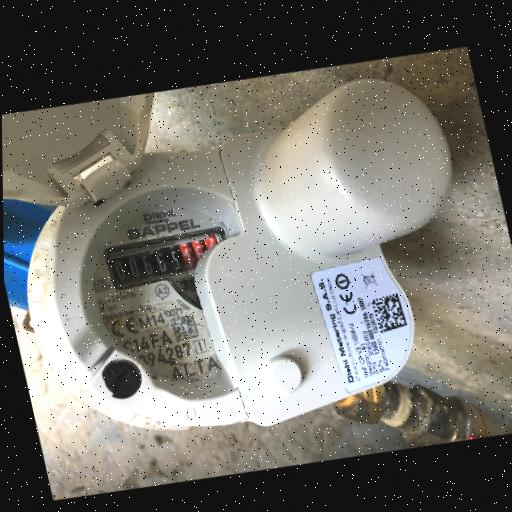0: (109, 254, 131, 286), (123, 251, 144, 283)
1: (177, 239, 200, 273)
5: (162, 241, 187, 275)
6: (149, 244, 173, 278), (136, 248, 158, 280), (190, 236, 210, 262)
border_water_meter_number: (101, 219, 230, 298)
